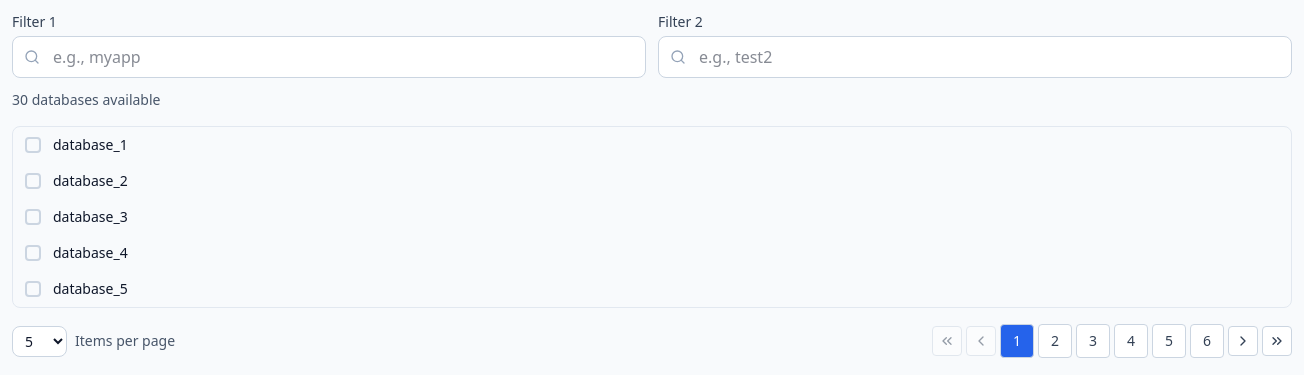
Test case: DatabaseSelector - Pagination › should navigate to last page
The image size is (1304, 375).
Check: the text "database_1" is shown, box [53,135,128,155]
Click the button named "Last page": (1277, 341) [1262,326,1292,356]
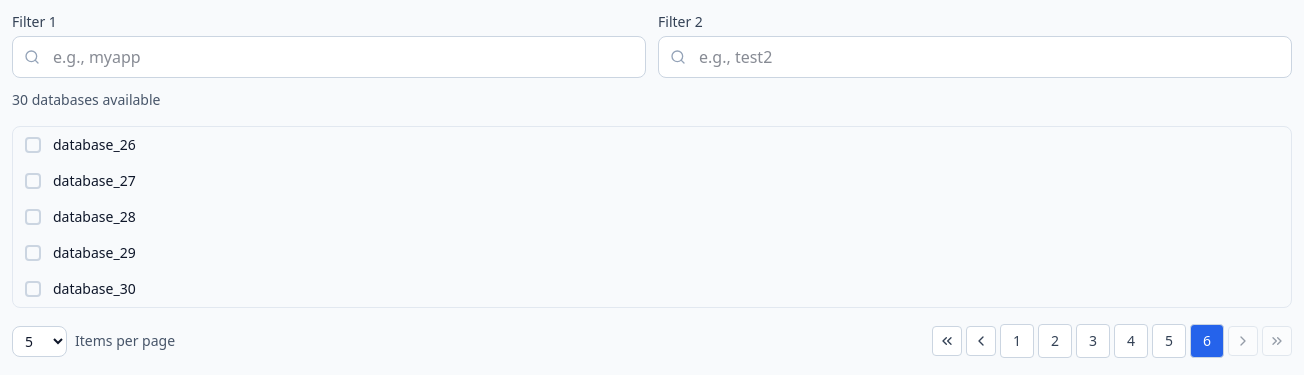
Check: the text "database_26" is shown, box [53,135,136,155]
Check: the text "database_30" is shown, box [53,279,136,299]
